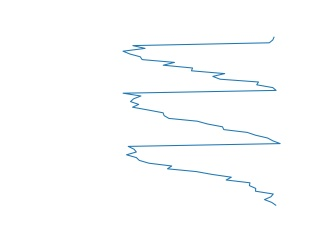distributaryMouthBar: (118, 33, 286, 210)
